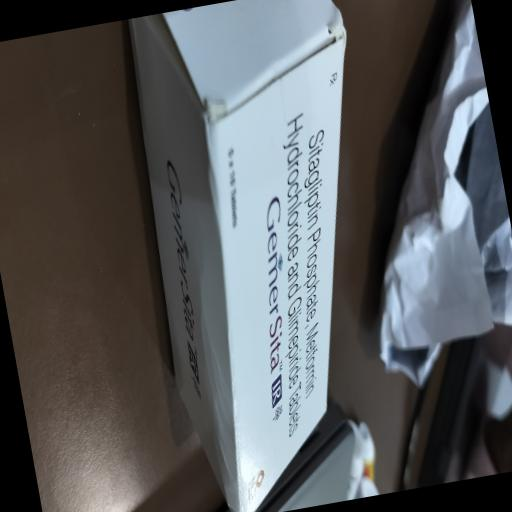Sitagliptin-Phosphate: (227, 97, 376, 429)
medicine: (119, 0, 402, 475)
